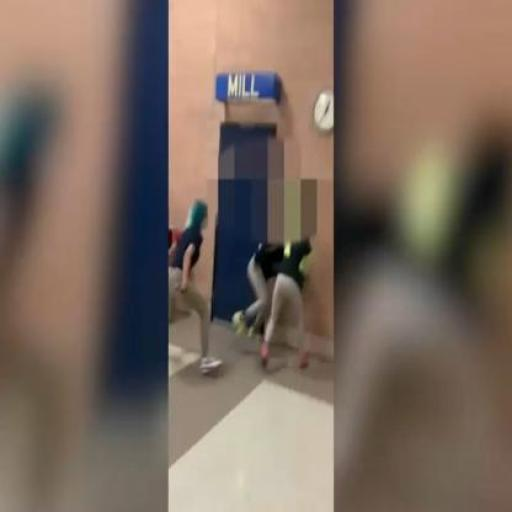Fighting: (171, 198, 336, 410)
